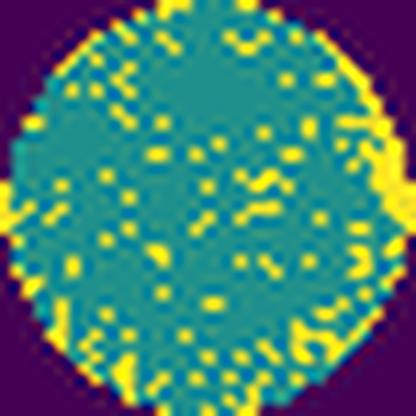Edge-Loc: (312, 26, 416, 237), (292, 308, 386, 375), (104, 343, 145, 409), (0, 179, 35, 238), (45, 289, 73, 360)
